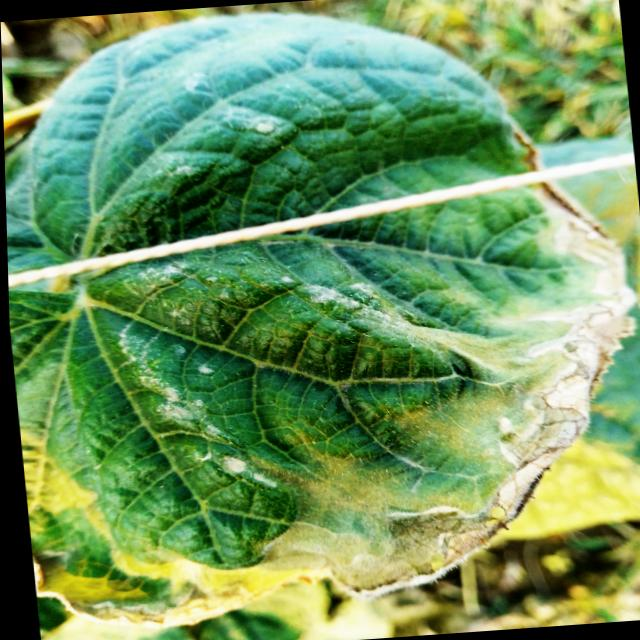Gummy-Stem-Blight: (32, 133, 639, 634)
